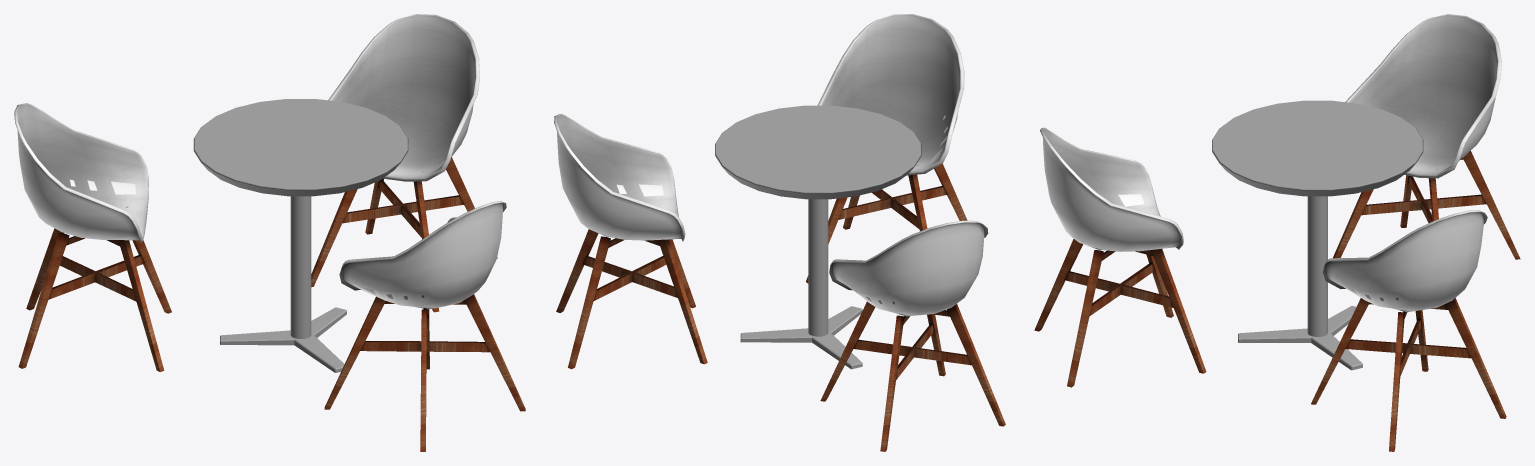
The model's file is Cafe_Table.fbx.
3 renders of one model, left to right at view 1: azimuth 30°, elevation 25°; view 2: azimuth 150°, elevation 25°; view 3: azimuth 270°, elevation 25°, orthographic. The views are drawn at different scales.
Parts seen in each view (by area): view 1: Cafe_Table_1; view 2: Cafe_Table_1; view 3: Cafe_Table_1.
Boxes of the visible parts, x1,y1,x2,y2 form: Cafe_Table_1: (14,14,525,451); Cafe_Table_1: (554,14,1005,451); Cafe_Table_1: (1034,14,1520,451).
Bounding box in the file's own units: 52.34 × 24.1 × 47.52.
